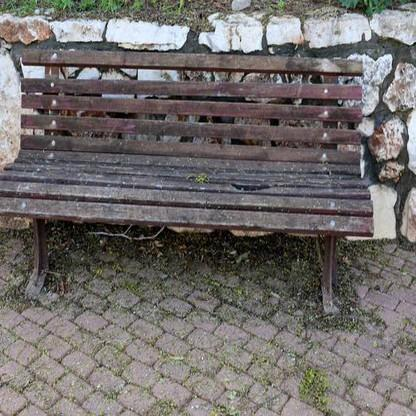obstacle: (8, 47, 378, 294)
